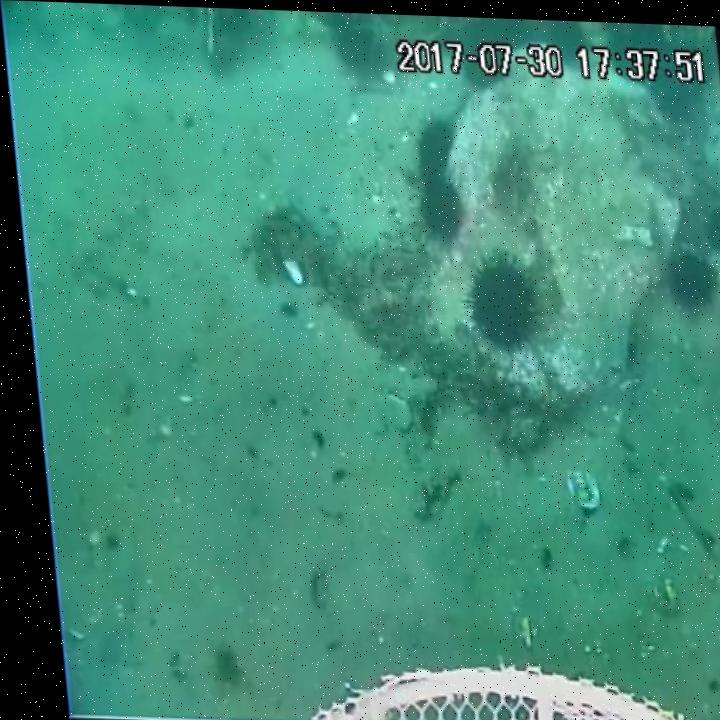echinus: (458, 251, 535, 345), (653, 238, 716, 305), (411, 177, 467, 247), (408, 115, 456, 181), (331, 22, 385, 73), (700, 195, 720, 252)
